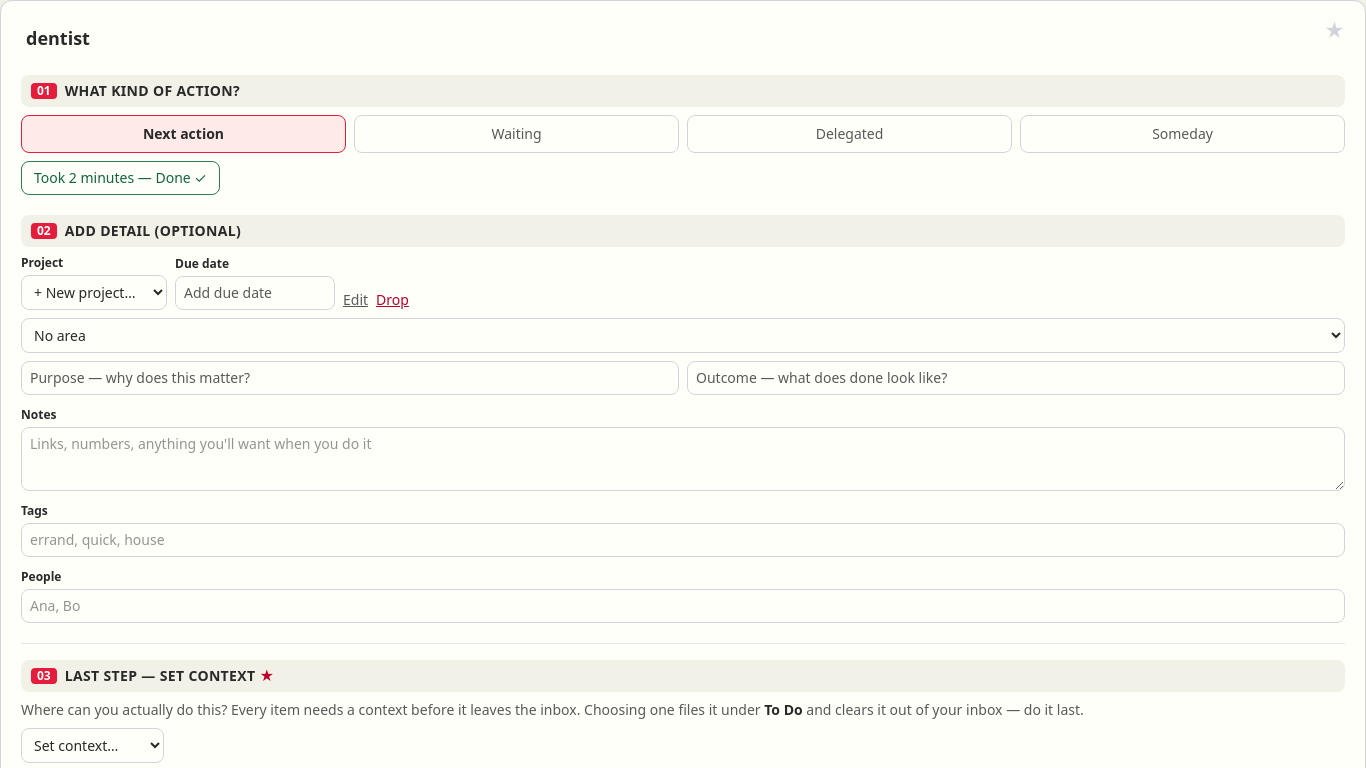
step 2 — creating a project without leaving triage › cancels back to the picker with the previous project untouched
Select "+ New project…" in the dropdown named "Project" at (94, 292), box [21, 275, 167, 310]
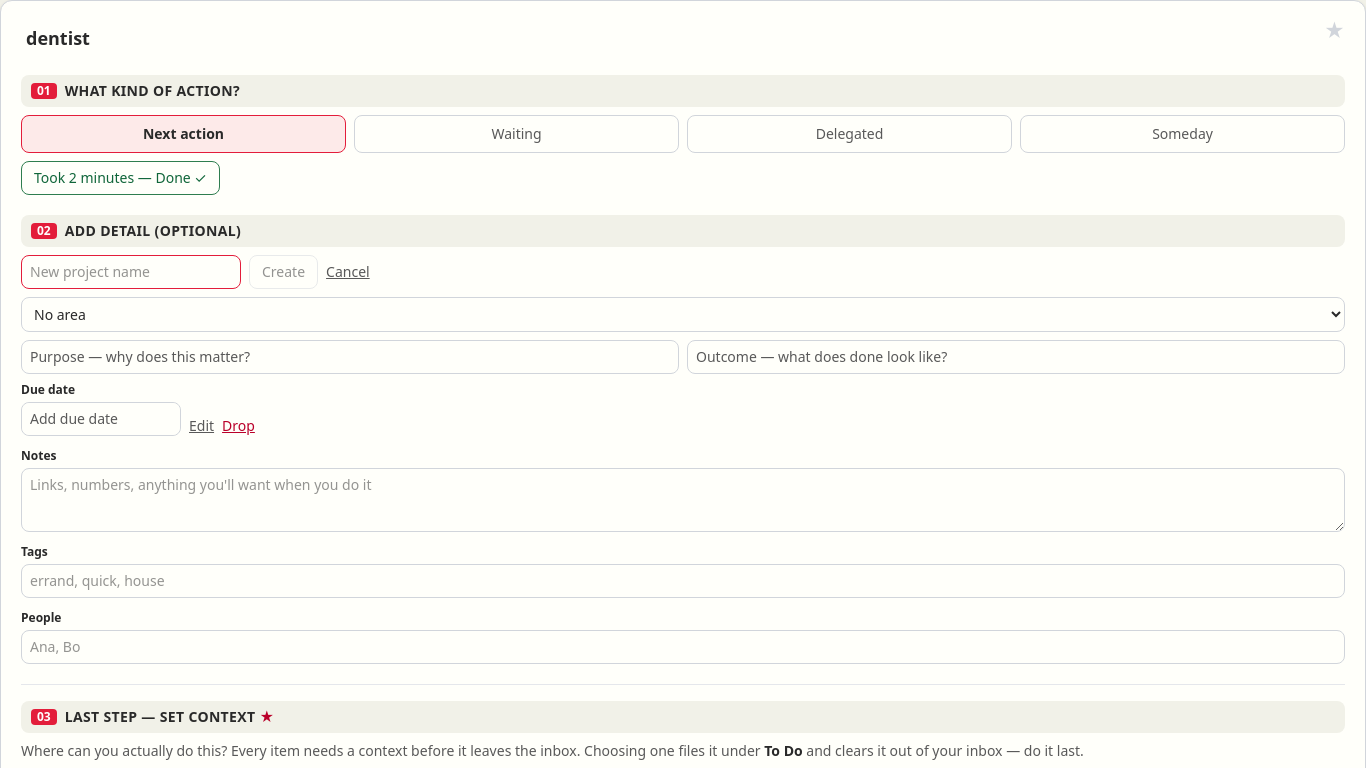
Click the button "Cancel".
click(348, 272)  # box [326, 262, 370, 282]
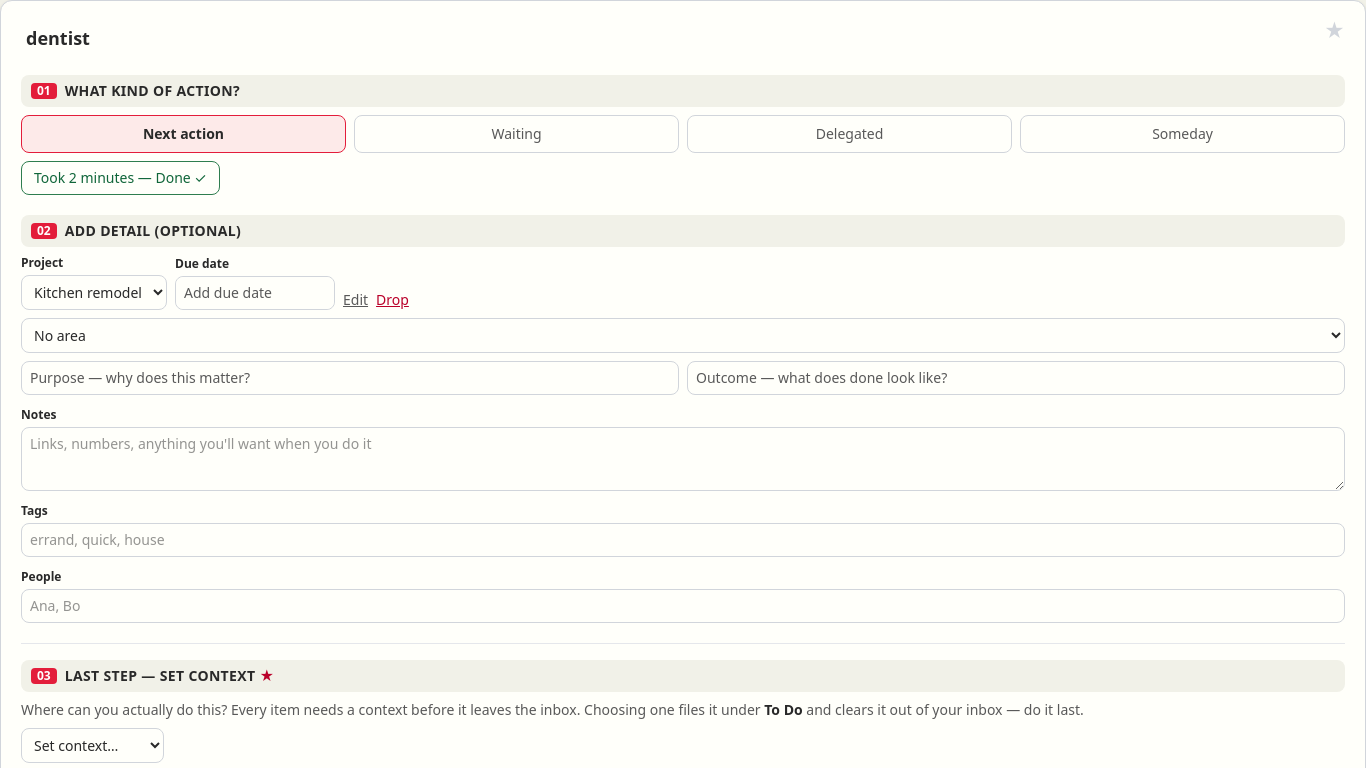
Result: the dropdown named "Project" shows "Kitchen remodel" at [21, 275, 167, 310]
